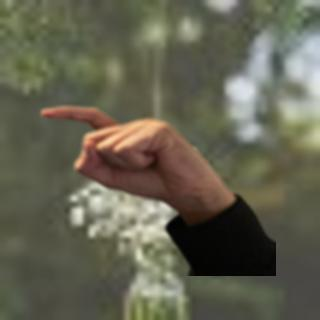WHY: (32, 96, 229, 218)
